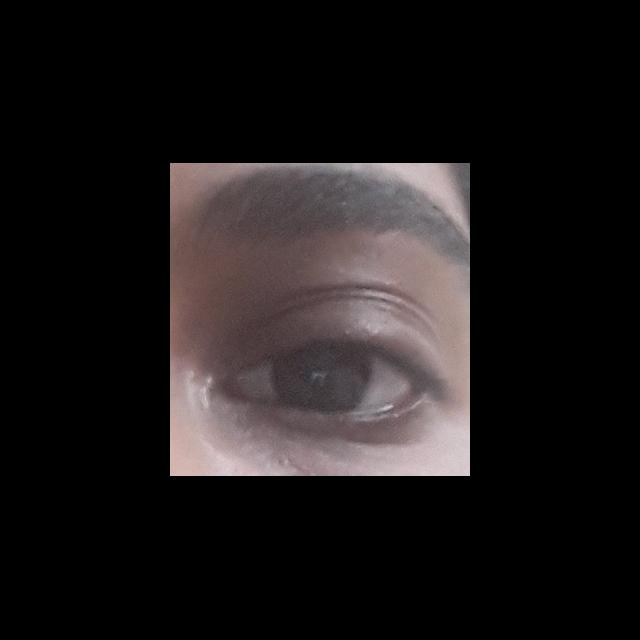eye: (240, 343, 415, 413)
iris: (274, 347, 377, 410)
